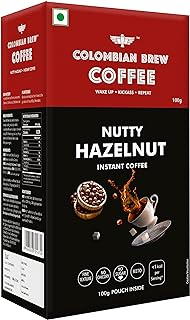Coffee: (1, 5, 190, 315)
